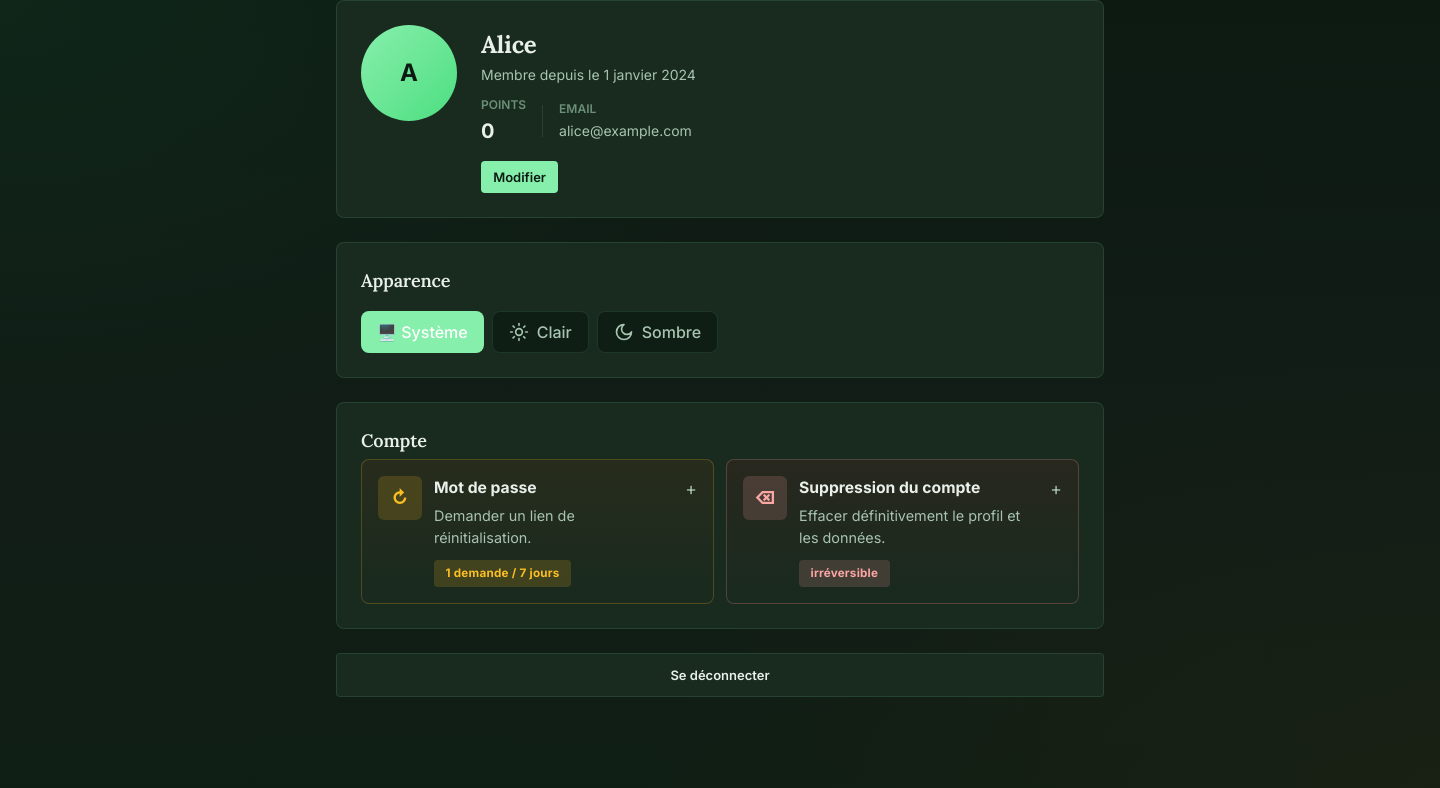
Test: ProfilePage — authenticated › toggles password reset confirmation panel
Check: the heading "Alice" is shown, box [481,29,536,60]
Step 1. Click the button "Mot de passe" → (400, 498), box [378,476,697,587]
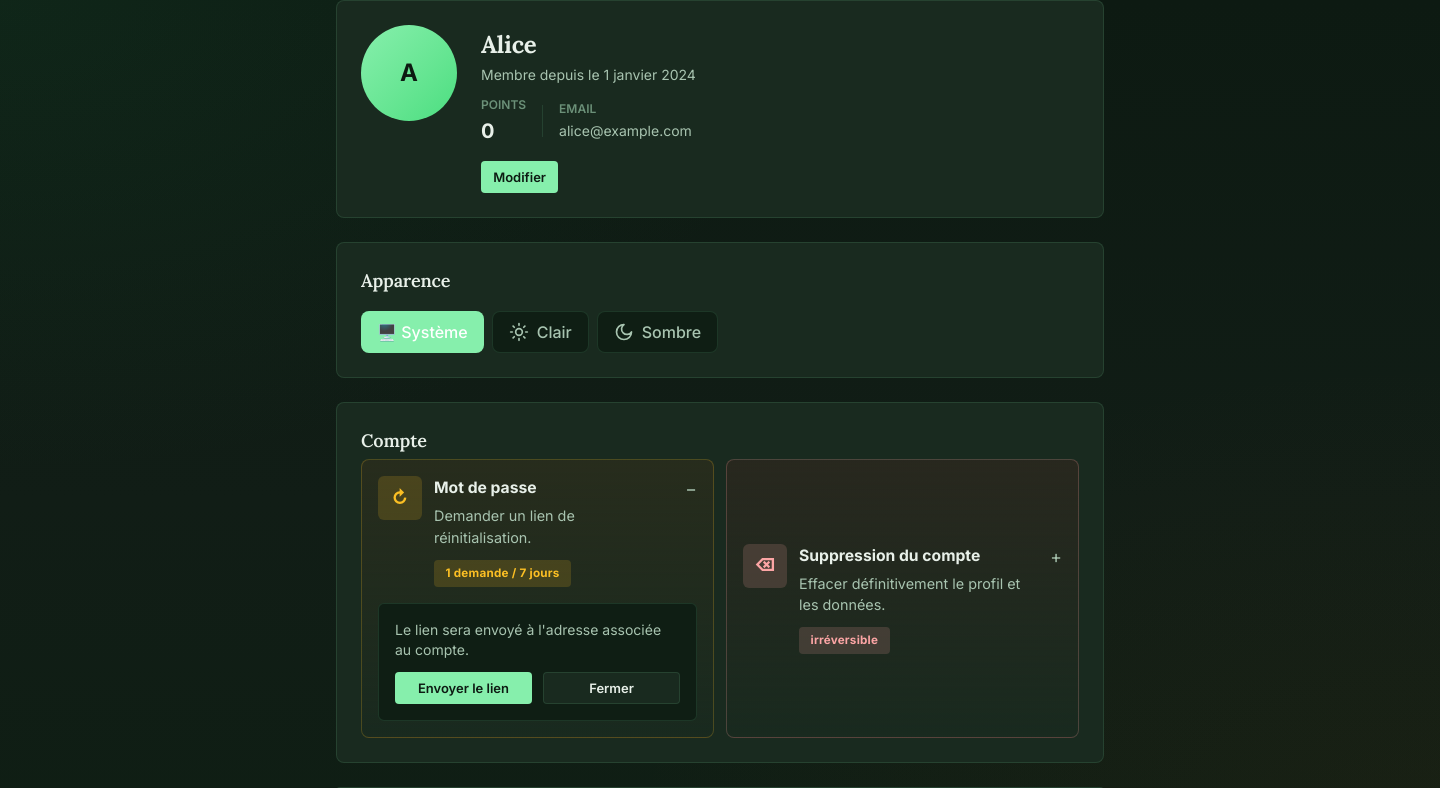
Check: the button "Envoyer le lien" is shown, box [395,672,532,704]
